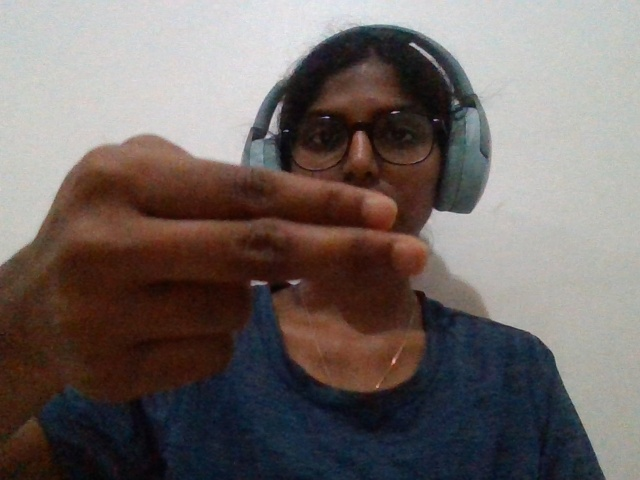H: (6, 92, 439, 453)
